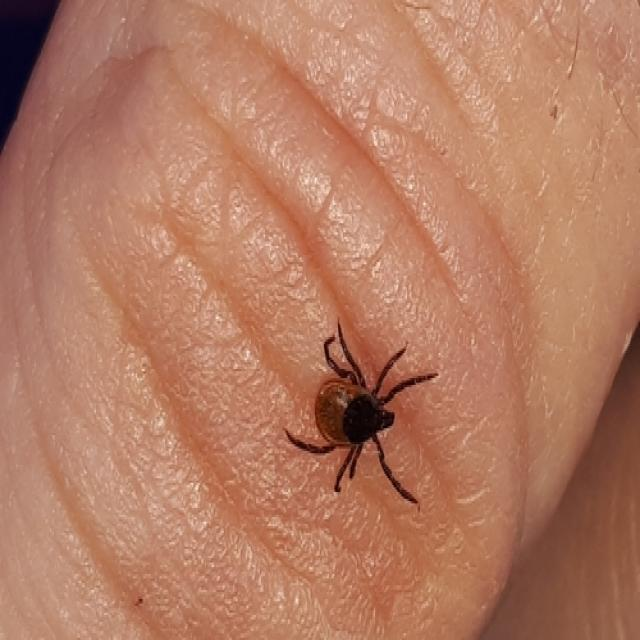Ixodes Ricinus-F: (285, 321, 438, 506)
